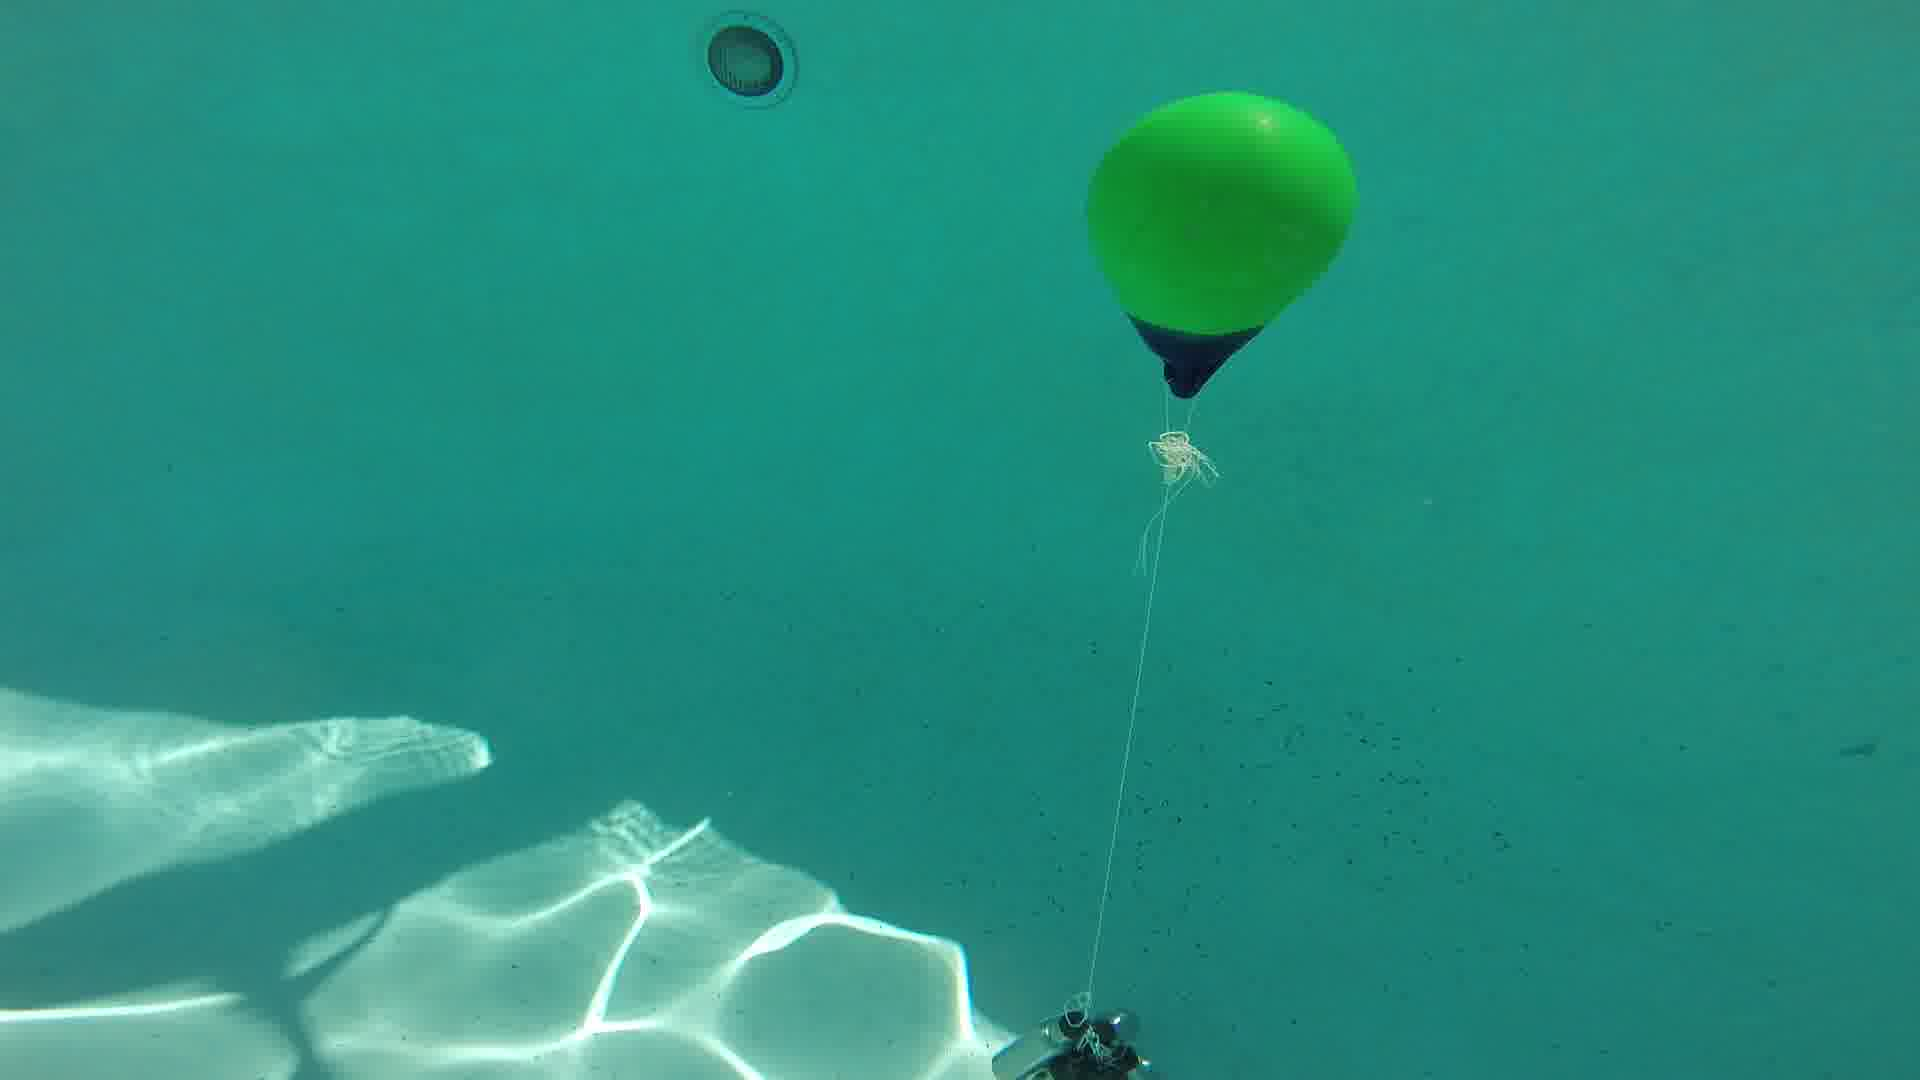yellow_buoy: (1077, 76, 1366, 405)
